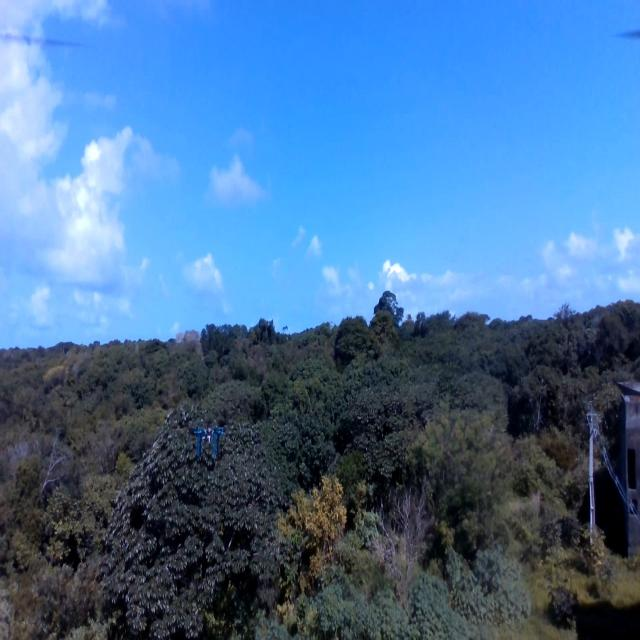-uav-: (190, 416, 225, 470)
